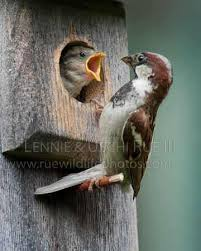hsparrow: (100, 42, 175, 206)
